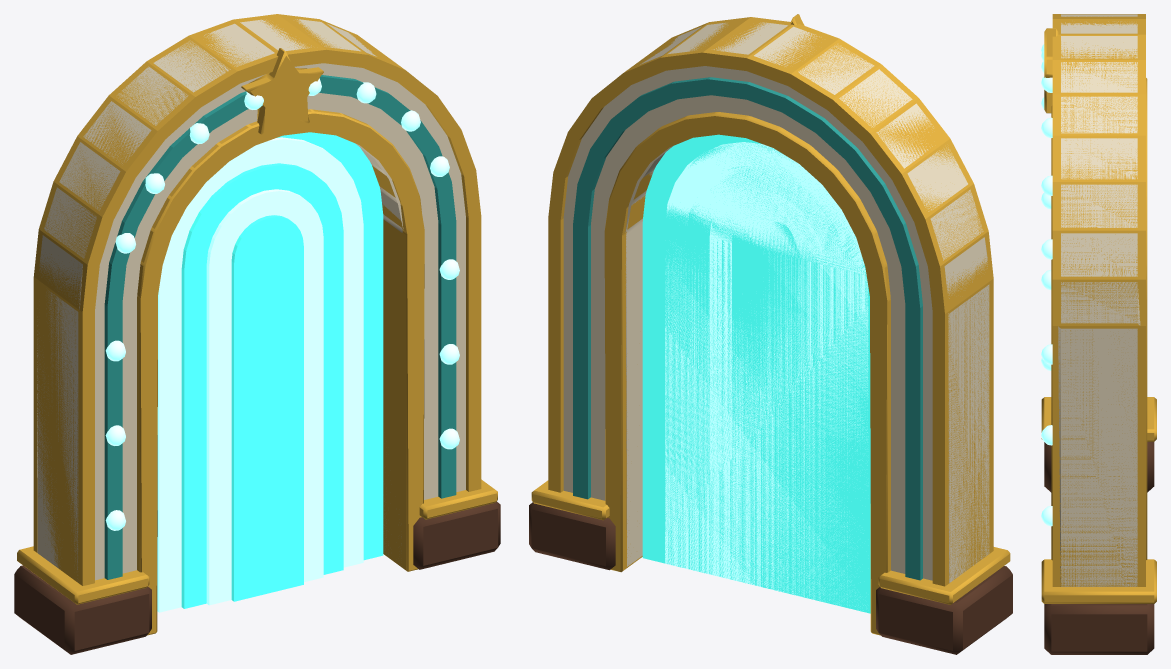
Rendered from minigame_door_arch.glb.
3 views of the same model, side by side, from view 1: azimuth 30°, elevation 25°; view 2: azimuth 150°, elevation 25°; view 3: azimuth 270°, elevation 25° (orthographic). The views are drawn at different scales.
Visible parts, largest first — view 1: minigame_door_arch; view 2: minigame_door_arch; view 3: minigame_door_arch.
Boxes of the visible parts, x1,y1,x2,y2 form: minigame_door_arch: (14,14,500,654); minigame_door_arch: (529,14,1012,654); minigame_door_arch: (1041,14,1156,654).
Bounding box in the file's own units: 3.5 × 4.25 × 0.845.
